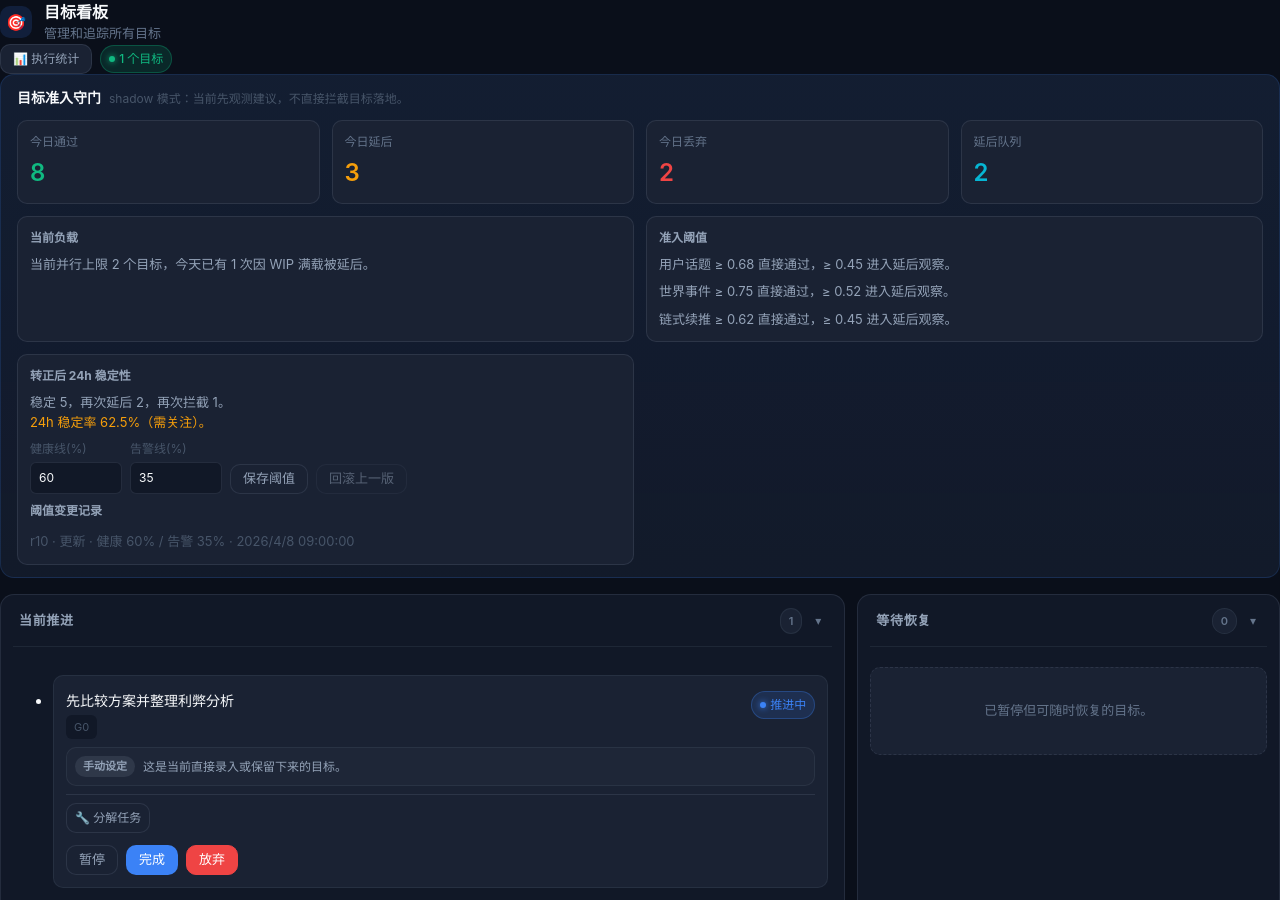
Test: updates stability thresholds and refreshes admission stats
The width and height of the screenshot is (1280, 900).
Expected: the text "目标准入守门" is shown, [17,86,101,108]
Replace the text in the number field labelled "健康线(%)" with "70" at (76, 478), box [30,462,122,494]
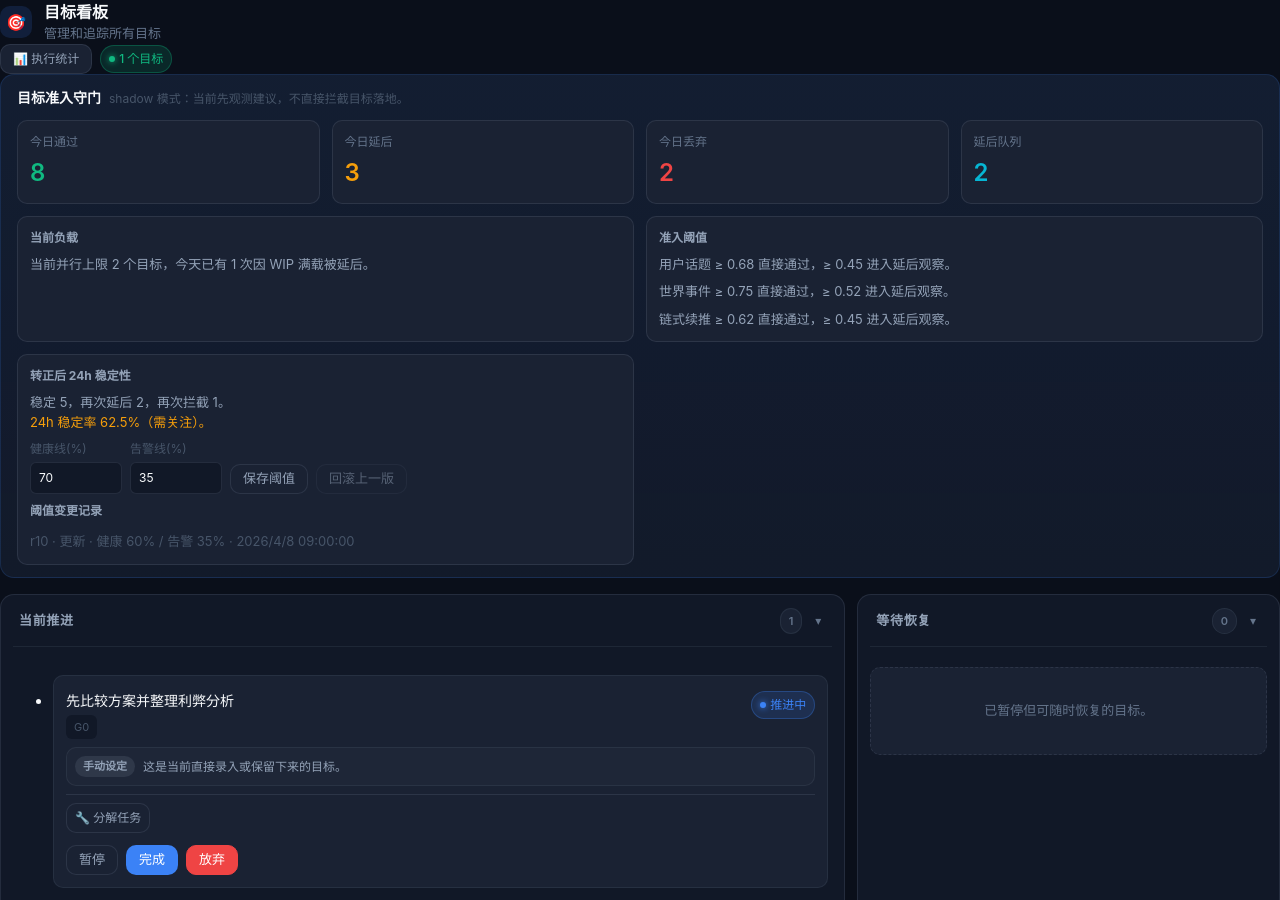
Replace the text in the number field labelled "告警线(%)" with "40" at (176, 478), box [130,462,222,494]
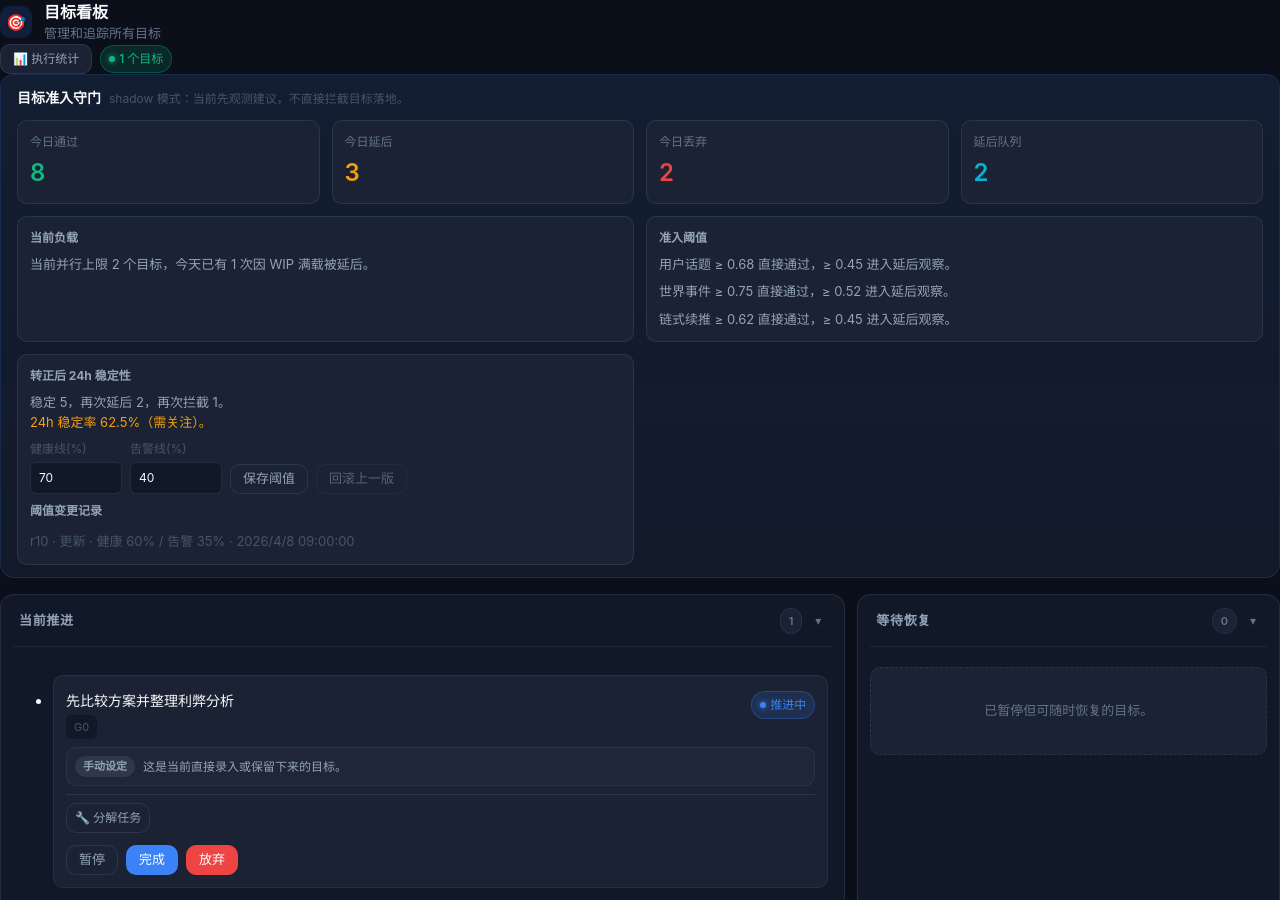
Click the button "保存阈值".
click(269, 479)  # box [230,464,308,494]
Wait 5200 ms
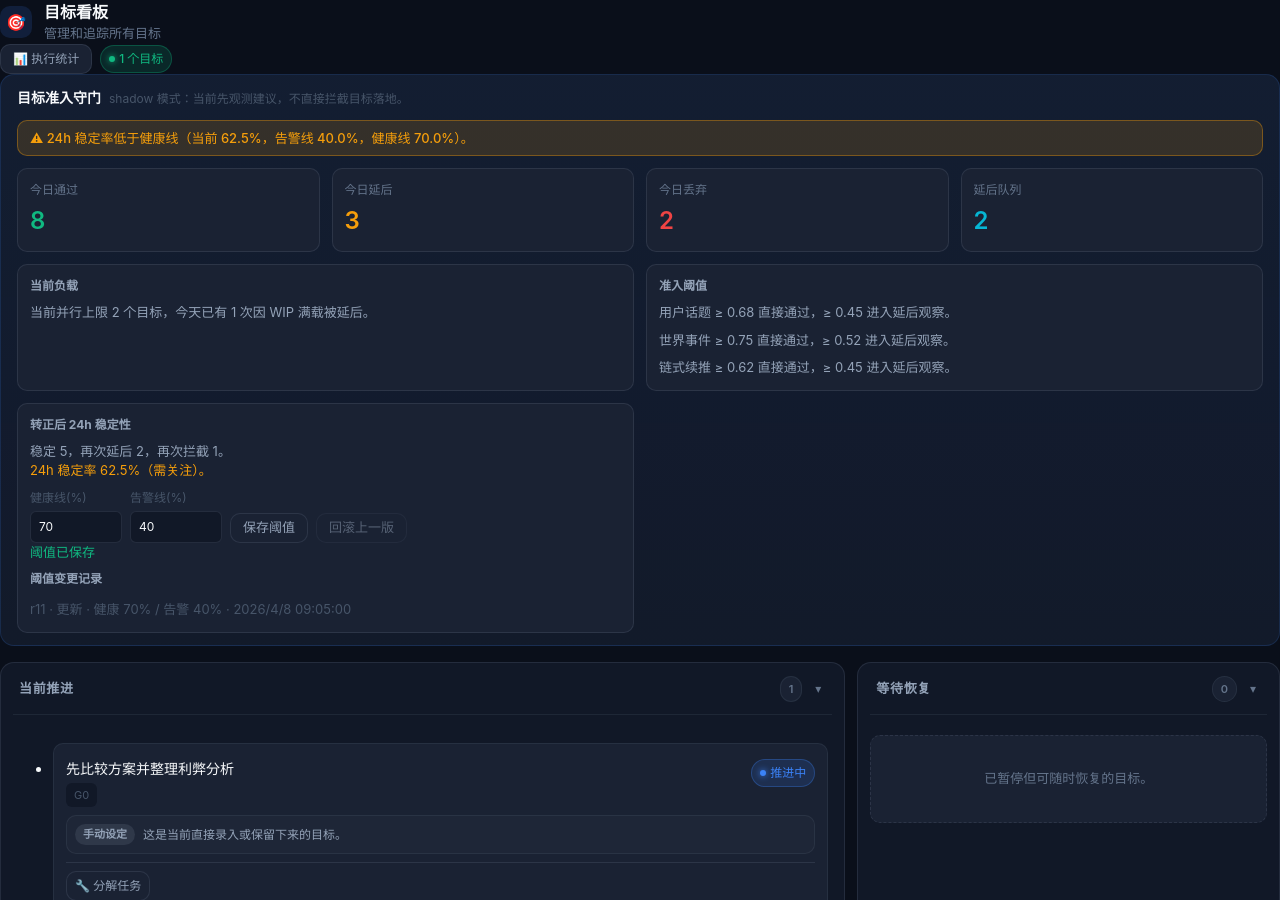
Now the text "阈值已保存" is shown, box [30,544,95,560]
